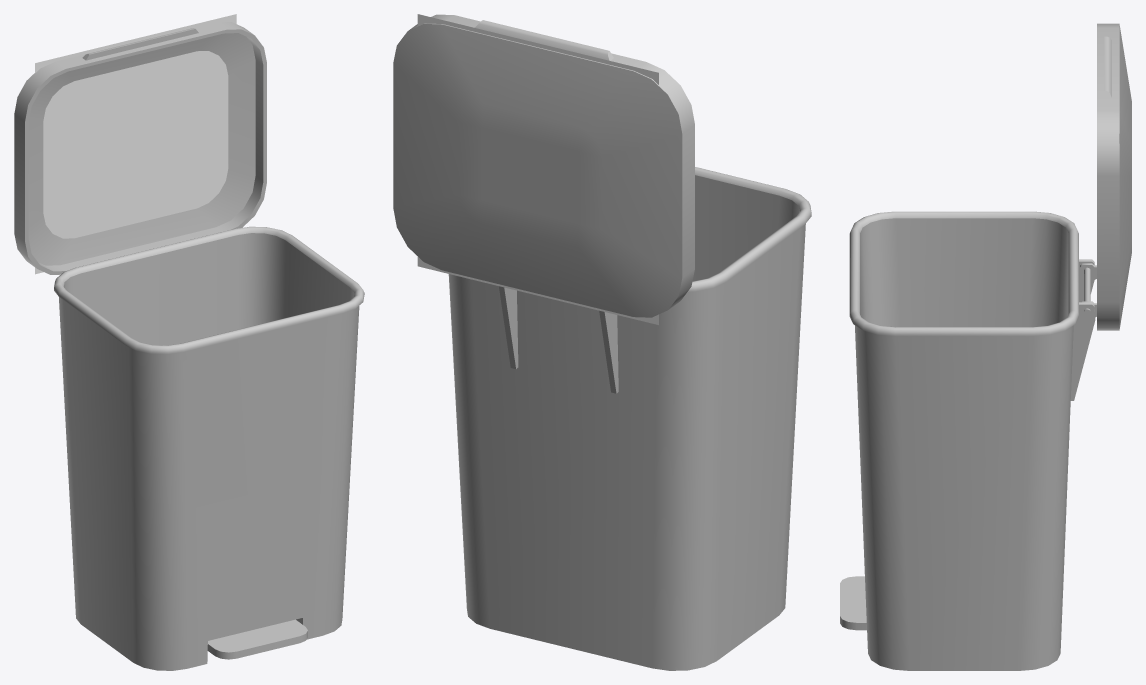
File: Trashcan_Mesh.fbx
3 views of the same model, side by side, from view 1: azimuth 30°, elevation 25°; view 2: azimuth 150°, elevation 25°; view 3: azimuth 270°, elevation 25° (orthographic). The views are drawn at different scales.
Visible parts, largest first — view 1: job_trash_bin_LOD0, label; view 2: job_trash_bin_LOD0, label; view 3: job_trash_bin_LOD0.
Boxes of the visible parts, x1,y1,x2,y2 form: job_trash_bin_LOD0: [14, 22, 364, 670]; label: [35, 14, 236, 274]; job_trash_bin_LOD0: [393, 14, 811, 670]; label: [417, 14, 658, 324]; job_trash_bin_LOD0: [840, 23, 1131, 670].
Size of what is drawn, in the model's own units: 0.5065 by 1.06 by 0.5039.
